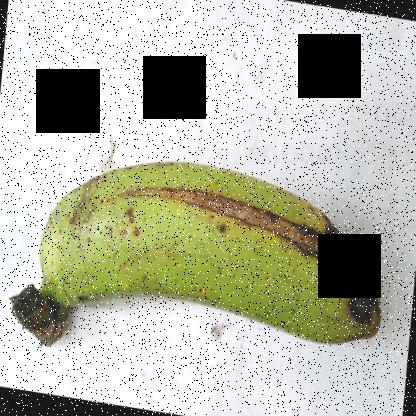rotten: (112, 176, 333, 262), (291, 178, 395, 351)
